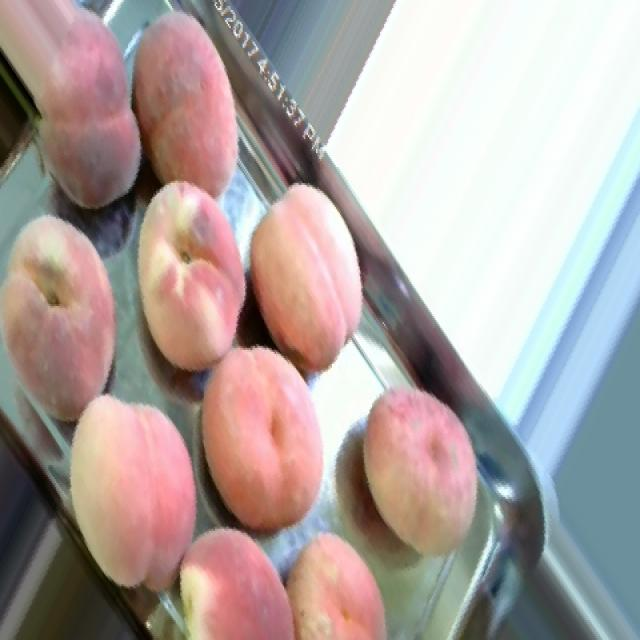Fruit: (27, 364, 226, 618), (186, 316, 354, 559), (0, 193, 152, 453), (333, 362, 511, 580), (245, 161, 395, 394), (0, 0, 143, 235), (108, 165, 253, 395), (129, 0, 271, 231), (146, 505, 322, 640), (265, 515, 415, 640)
